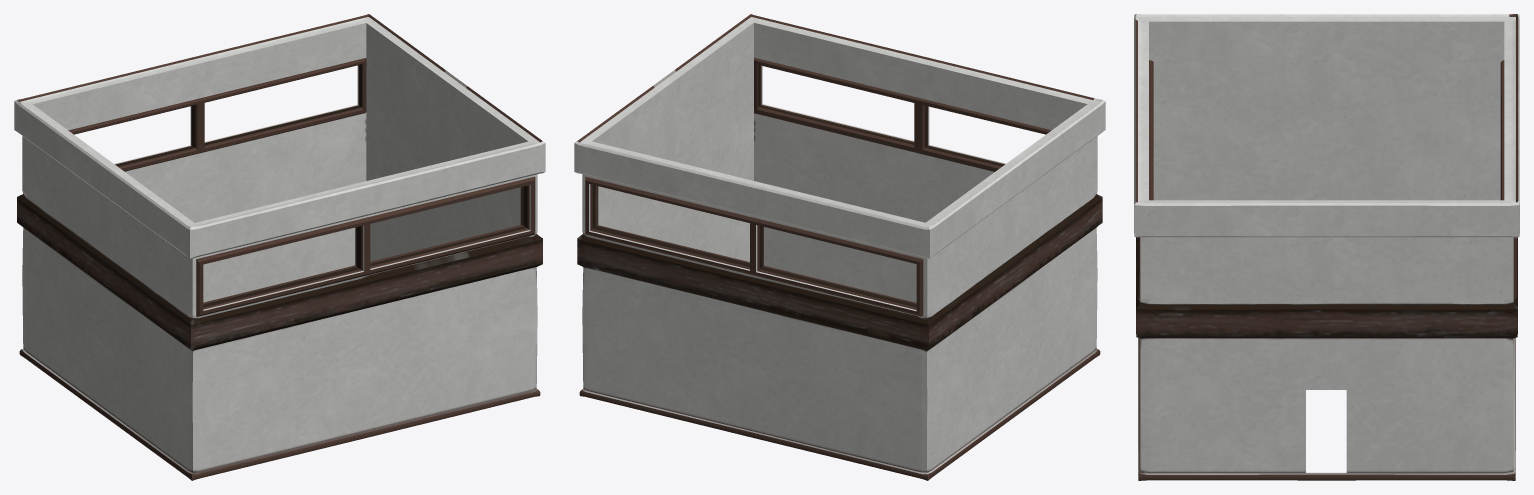
The model's file is Office walls maybe fixed.fbx.
The picture shows the model from 3 angles, left to right: view 1: azimuth 30°, elevation 25°; view 2: azimuth 150°, elevation 25°; view 3: azimuth 270°, elevation 25°; orthographic projection. The views are drawn at different scales.
Parts seen in each view (by area): view 1: Walls2; view 2: Walls2; view 3: Walls2.
Part boxes in pixels (box(x1,y1,x2,y2)): Walls2: box(14, 14, 545, 480); Walls2: box(574, 14, 1105, 480); Walls2: box(1134, 14, 1519, 480).
Bounding box in the file's own units: 161 × 110 × 138.
Materials: 1 (1 with a texture image).
